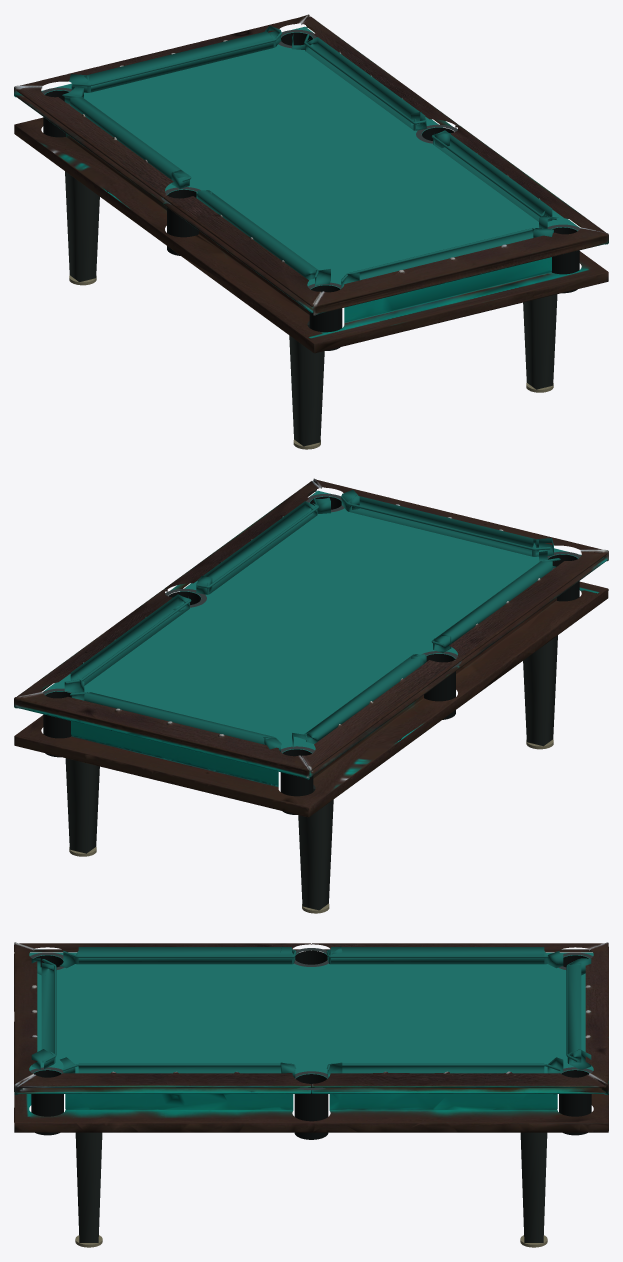
The model's file is AI-Hybrid-Playable.glb.
The picture shows the model from 3 angles, top to bottom: view 1: azimuth 30°, elevation 25°; view 2: azimuth 150°, elevation 25°; view 3: azimuth 270°, elevation 25°; orthographic projection.
Parts seen in each view (by area): view 1: Rebuilt_Flat_Cloth_Open_Pockets, AI_Decorative_Shell_Repaired, Rebuilt_Cushions_And_Rounded_Jaws, Rebuilt_Support_Legs, Rebuilt_Open_Pocket_Wells, Rebuilt_Flush_Pocket_Trim; view 2: Rebuilt_Flat_Cloth_Open_Pockets, AI_Decorative_Shell_Repaired, Rebuilt_Cushions_And_Rounded_Jaws, Rebuilt_Support_Legs, Rebuilt_Open_Pocket_Wells, Rebuilt_Flush_Pocket_Trim; view 3: Rebuilt_Flat_Cloth_Open_Pockets, AI_Decorative_Shell_Repaired, Rebuilt_Cushions_And_Rounded_Jaws, Rebuilt_Support_Legs, Rebuilt_Open_Pocket_Wells, Rebuilt_Flush_Pocket_Trim.
Boxes of the visible parts, left/top/right/bottom form: Rebuilt_Flat_Cloth_Open_Pockets: left=41, top=26, right=579, bottom=289; AI_Decorative_Shell_Repaired: left=14, top=14, right=608, bottom=353; Rebuilt_Cushions_And_Rounded_Jaws: left=62, top=26, right=558, bottom=288; Rebuilt_Support_Legs: left=65, top=171, right=557, bottom=446; Rebuilt_Open_Pocket_Wells: left=43, top=32, right=579, bottom=350; Rebuilt_Flush_Pocket_Trim: left=42, top=29, right=580, bottom=289; Rebuilt_Flat_Cloth_Open_Pockets: left=43, top=490, right=581, bottom=753; AI_Decorative_Shell_Repaired: left=14, top=478, right=608, bottom=817; Rebuilt_Cushions_And_Rounded_Jaws: left=64, top=490, right=560, bottom=751; Rebuilt_Support_Legs: left=65, top=635, right=557, bottom=910; Rebuilt_Open_Pocket_Wells: left=43, top=496, right=579, bottom=814; Rebuilt_Flush_Pocket_Trim: left=42, top=494, right=580, bottom=753; Rebuilt_Flat_Cloth_Open_Pockets: left=29, top=952, right=593, bottom=1078; AI_Decorative_Shell_Repaired: left=14, top=942, right=608, bottom=1132; Rebuilt_Cushions_And_Rounded_Jaws: left=31, top=946, right=591, bottom=1077; Rebuilt_Support_Legs: left=75, top=1132, right=547, bottom=1242; Rebuilt_Open_Pocket_Wells: left=31, top=950, right=591, bottom=1139; Rebuilt_Flush_Pocket_Trim: left=30, top=948, right=592, bottom=1090.
Size of the model in its own units: 1.31 by 0.762 by 2.3.
7 materials, 1 textured.
